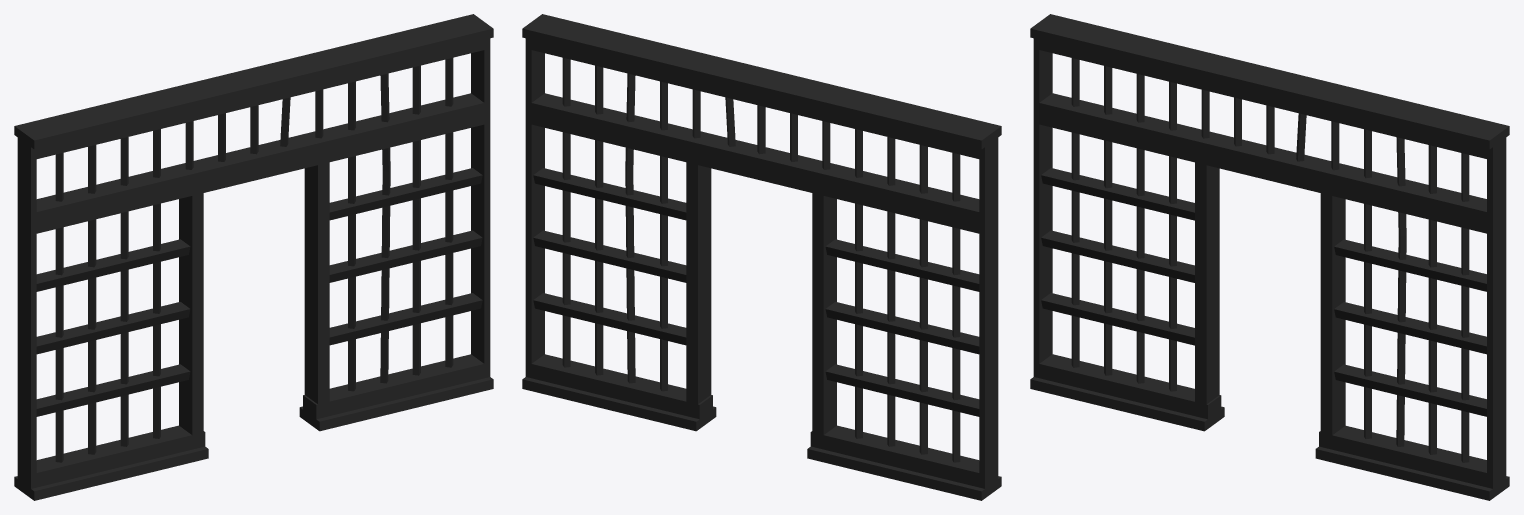
File: dungeon-door-prison.glb
3 views of the same model, side by side, from view 1: azimuth 30°, elevation 25°; view 2: azimuth 150°, elevation 25°; view 3: azimuth 330°, elevation 25° (orthographic).
Visible parts, largest first — view 1: dungeon-door-prison; view 2: dungeon-door-prison; view 3: dungeon-door-prison.
Boxes of the visible parts, x1,y1,x2,y2 form: dungeon-door-prison: (14, 14, 493, 500); dungeon-door-prison: (522, 14, 1001, 500); dungeon-door-prison: (1030, 14, 1509, 500).
Size of the model in its own units: 4 by 3 by 0.3.
Materials: 1 (1 with a texture image).
